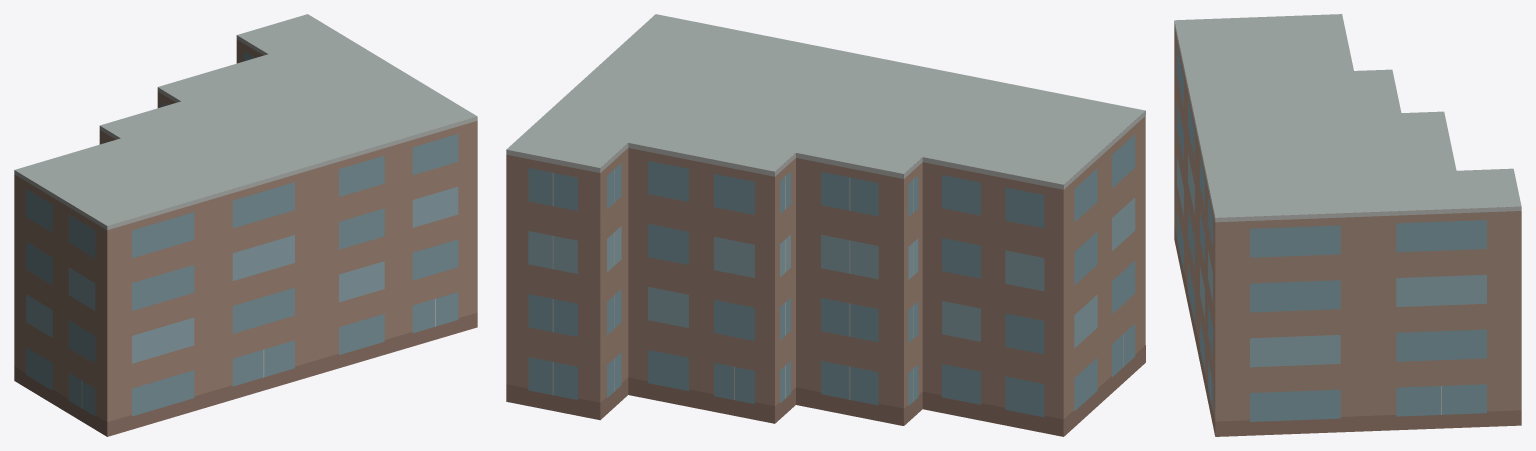
The model's file is residential-58bd7346-6ebc-43e8-b85a-1f3fe72b6a47.glb.
3 views of the same model, side by side, from view 1: azimuth 30°, elevation 25°; view 2: azimuth 150°, elevation 25°; view 3: azimuth 270°, elevation 25° (orthographic). The views are drawn at different scales.
Parts seen in each view (by area): view 1: residential-58bd7346-6ebc-43e8-b85a-1f3fe72b6a47.tmp; view 2: residential-58bd7346-6ebc-43e8-b85a-1f3fe72b6a47.tmp; view 3: residential-58bd7346-6ebc-43e8-b85a-1f3fe72b6a47.tmp.
Boxes of the visible parts, x1,y1,x2,y2 form: residential-58bd7346-6ebc-43e8-b85a-1f3fe72b6a47.tmp: (14,14,477,436); residential-58bd7346-6ebc-43e8-b85a-1f3fe72b6a47.tmp: (506,14,1145,436); residential-58bd7346-6ebc-43e8-b85a-1f3fe72b6a47.tmp: (1174,14,1521,436).
Bounding box in the file's own units: 24.37 × 12.2 × 17.54.
